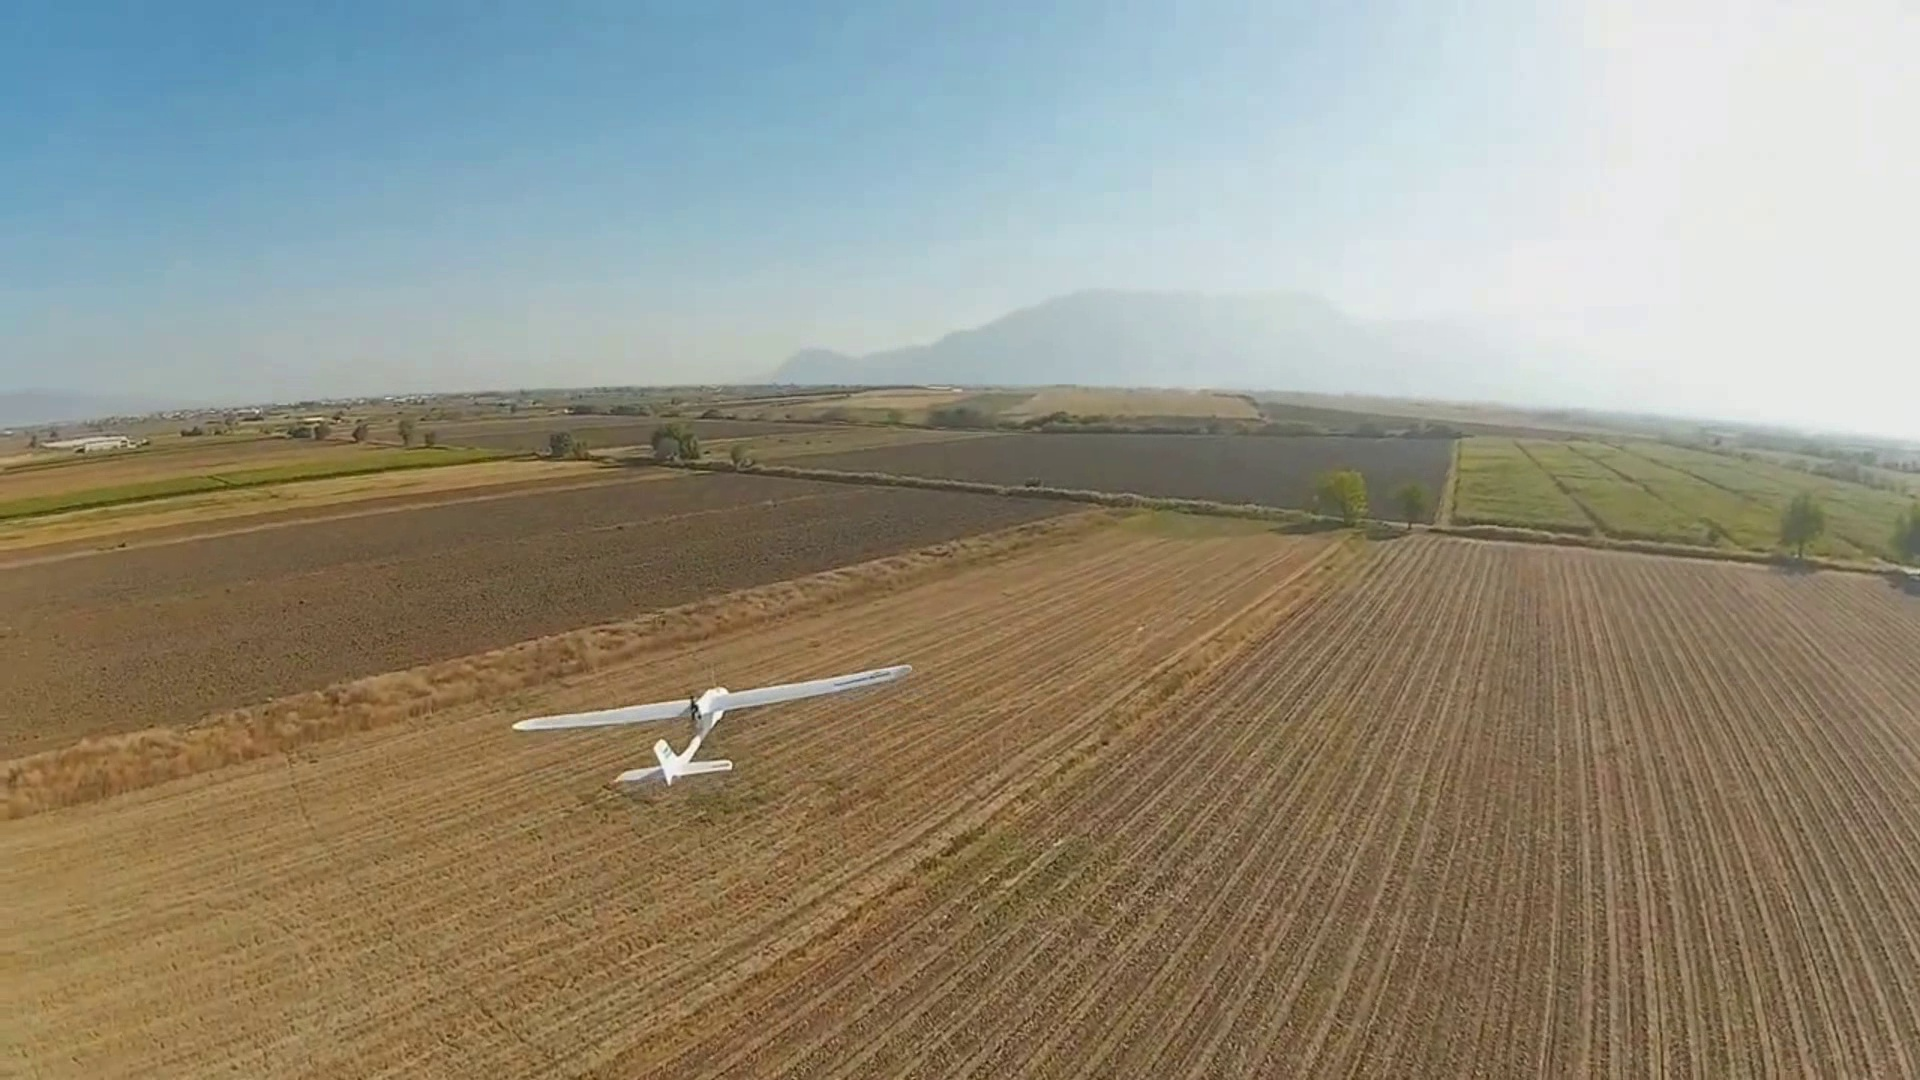airplane: (510, 665, 913, 794)
